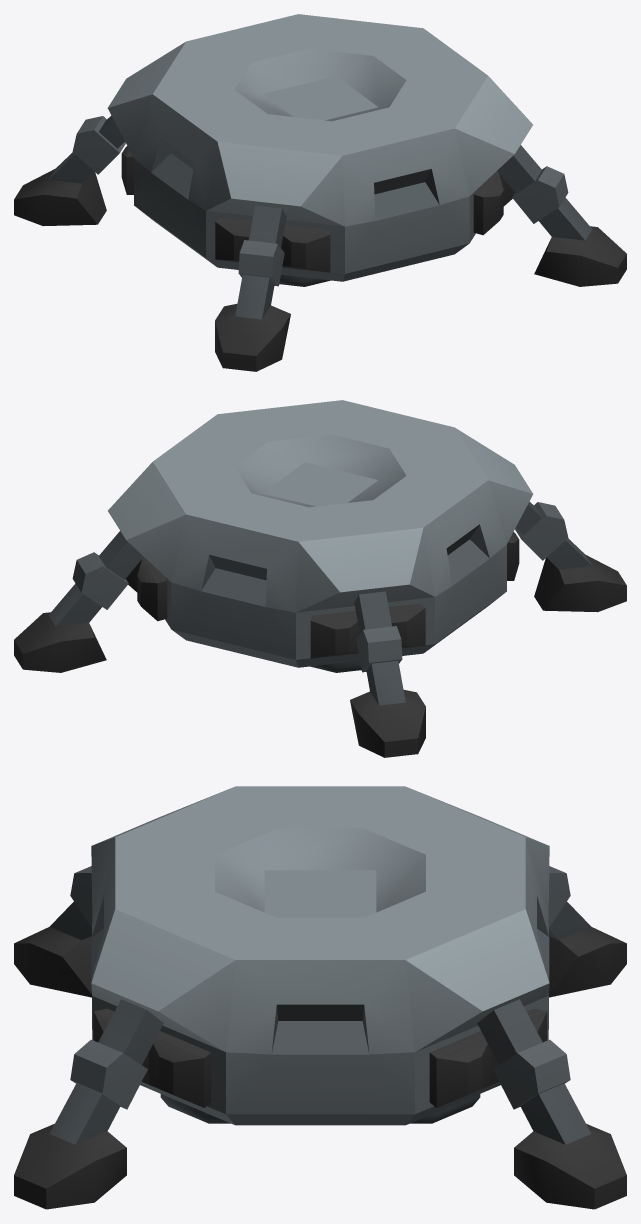
Rendered from SpaceLanderBase.glb.
3 renders of one model, top to bottom at view 1: azimuth 30°, elevation 25°; view 2: azimuth 150°, elevation 25°; view 3: azimuth 270°, elevation 25°, orthographic. The views are drawn at different scales.
Parts seen in each view (by area): view 1: lander_base; view 2: lander_base; view 3: lander_base.
Part boxes in pixels (x1,y1,x2,y2): lander_base: (14,14,626,371); lander_base: (14,400,626,757); lander_base: (14,786,626,1209).
Size of the model in its own units: 1.34 by 0.5 by 1.34.
1 material, 1 textured.
